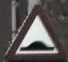Speed Breaker ahead: (6, 4, 61, 57)
